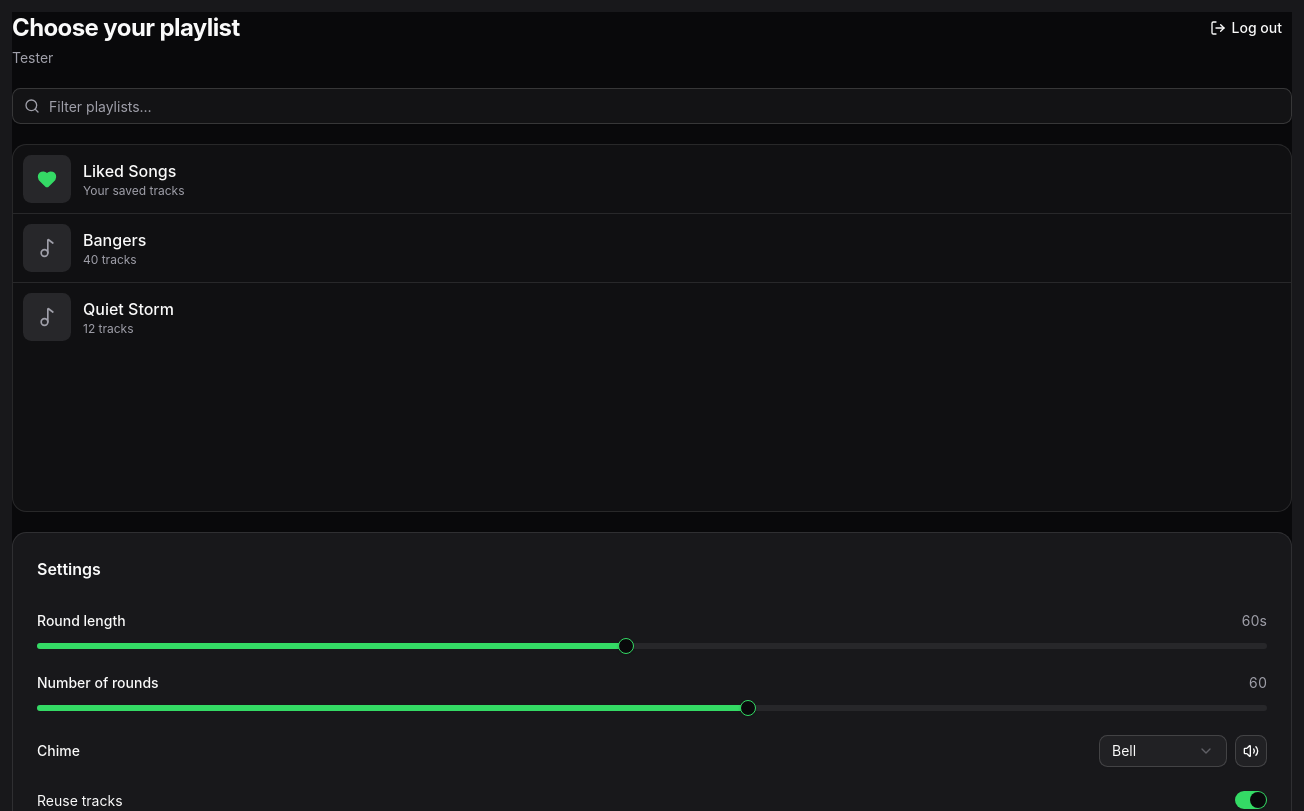
Test case: PlaylistPicker › filters by name, case-insensitively
In the search field with placeholder "Filter playlists…": x=652, y=106 [12,88,1292,124], type "quiet"
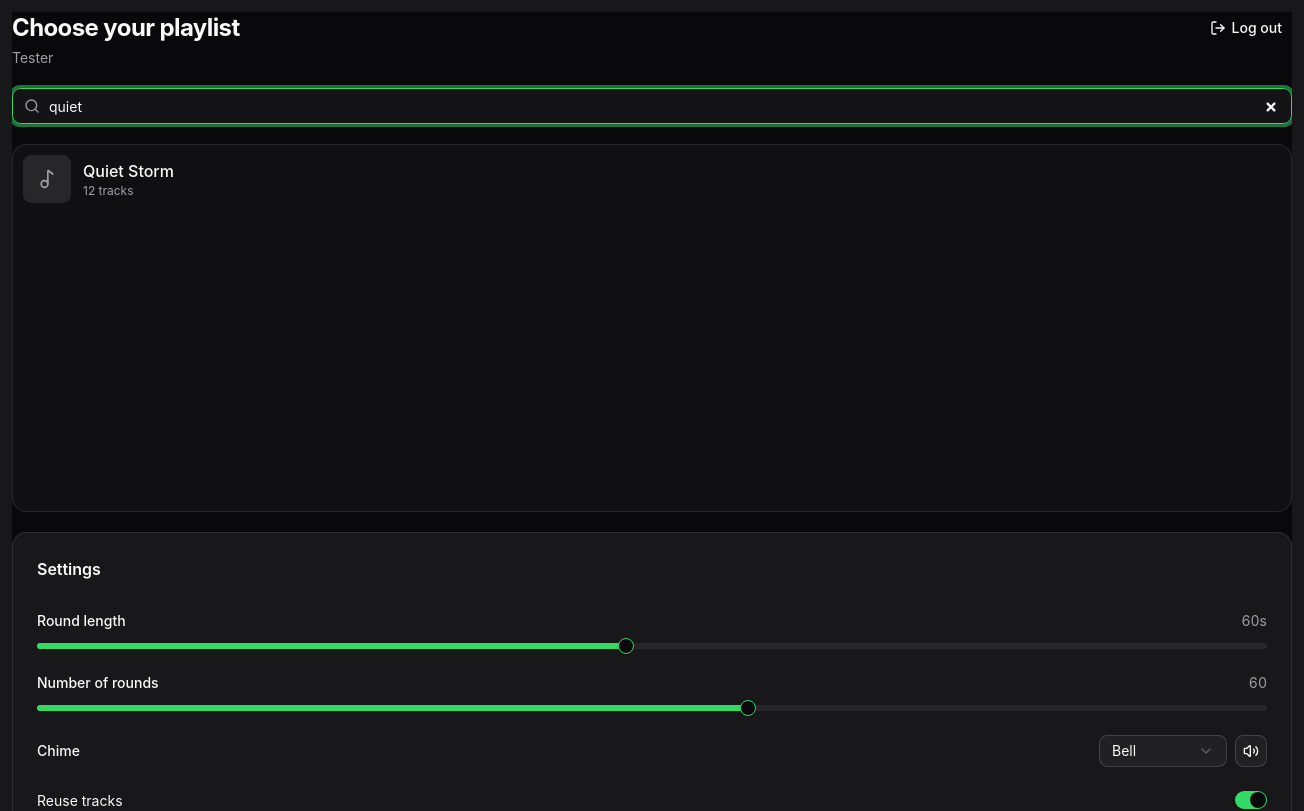
Check: the text "Quiet Storm" is shown, box [83,161,174,181]
Check: the button "Bangers" is gone
